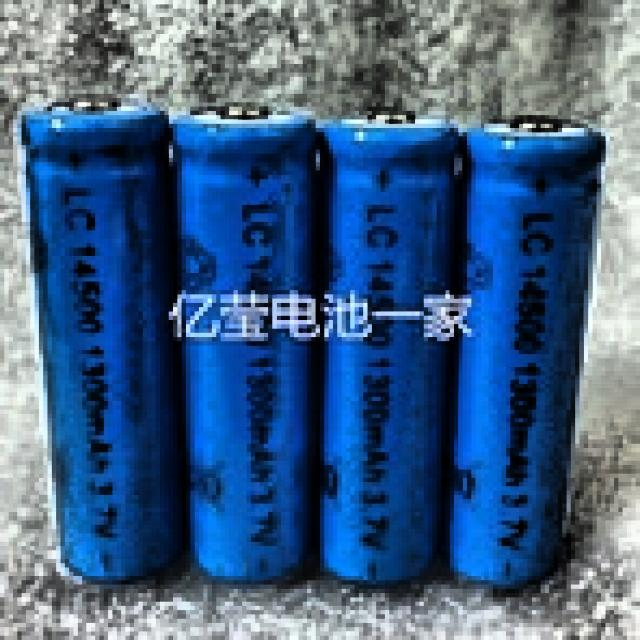Non-Valuable Waste - Batteries: (22, 106, 184, 582), (447, 125, 604, 587), (172, 115, 317, 582), (321, 115, 459, 584)
